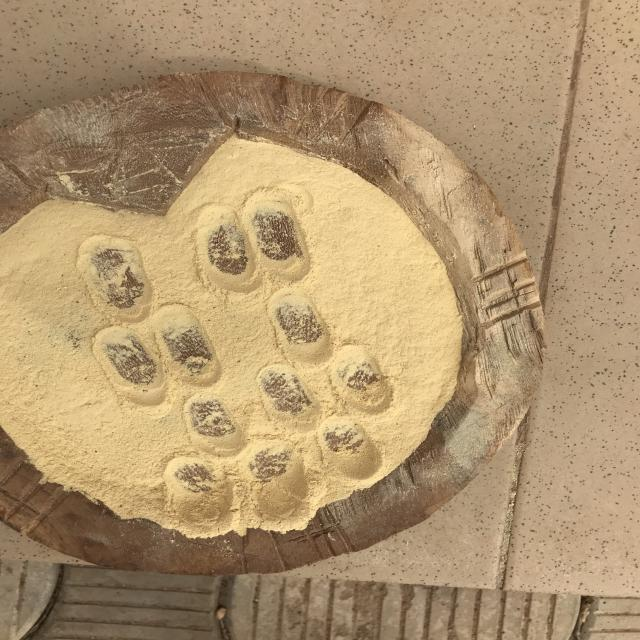double: (82, 308, 232, 404), (180, 192, 328, 288), (155, 444, 310, 530), (253, 348, 407, 424)
single: (74, 234, 160, 318), (256, 290, 342, 360), (178, 394, 250, 456), (318, 418, 386, 478)
